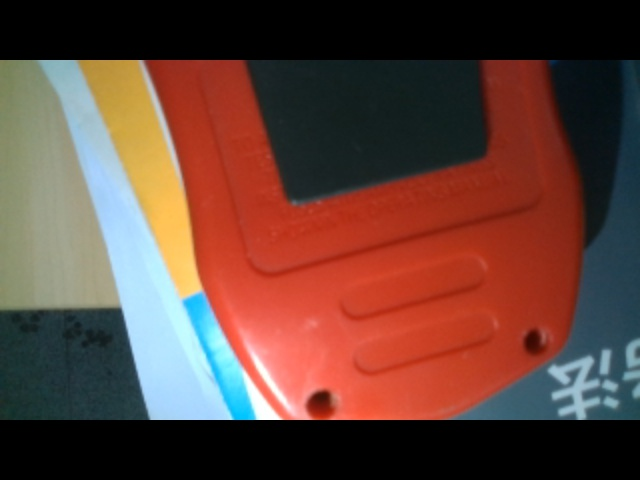Screw holes: (303, 387, 342, 421), (522, 326, 549, 355)
